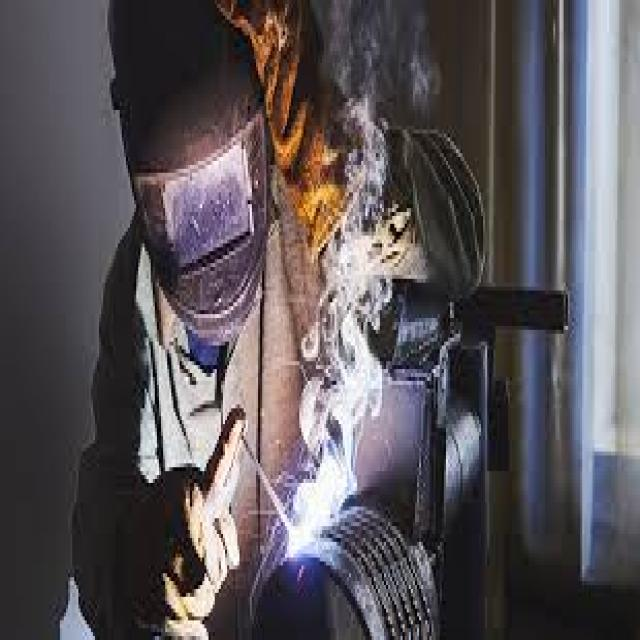welding: (288, 504, 318, 548)
